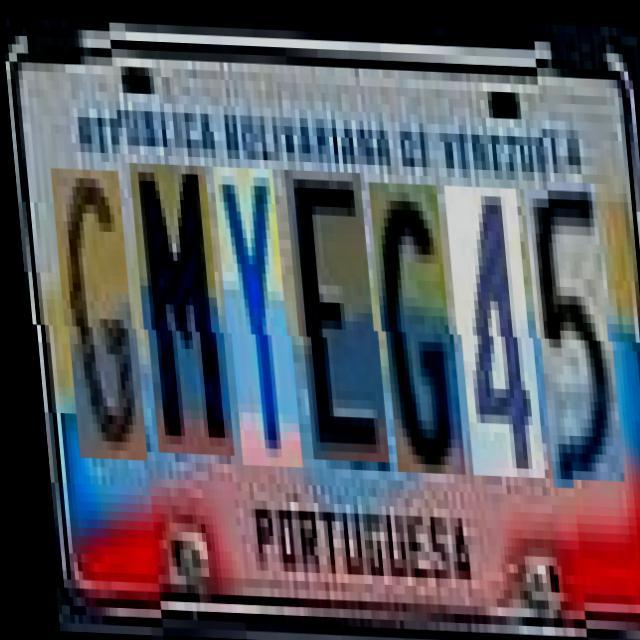4: (444, 182, 536, 474)
5: (524, 185, 616, 484)
E: (285, 168, 381, 460)
G: (369, 178, 457, 471), (50, 159, 138, 451)
M: (130, 162, 226, 454)
Y: (214, 165, 294, 465)
